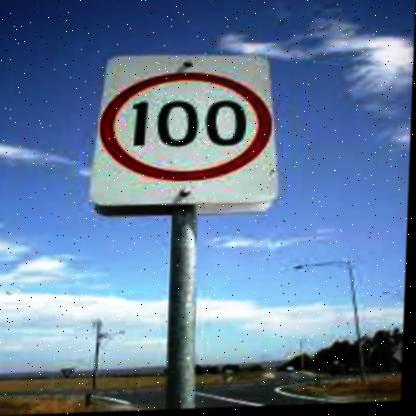Speed Limit -100-: (96, 62, 282, 190)
